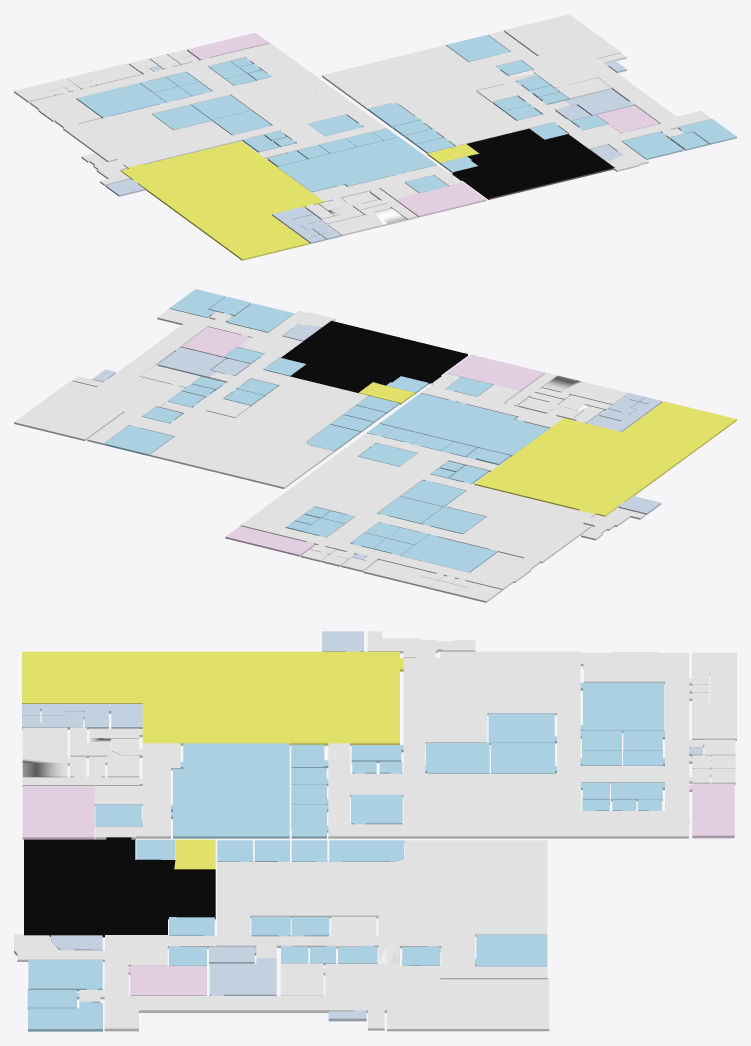
Rendered from Floors-North.fbx.
3 renders of one model, top to bottom at view 1: azimuth 30°, elevation 25°; view 2: azimuth 150°, elevation 25°; view 3: azimuth 270°, elevation 25°, orthographic. The views are drawn at different scales.
Parts seen in each view (by area): view 1: polySurface127, polySurface75, polySurface15, polySurface93, A_C01042, polySurface29, Kitchen, polySurface94, Bathroom_Canteen, polySurface40, PoolRoom, polySurface77 (+20 smaller); view 2: polySurface127, polySurface75, polySurface15, polySurface93, A_C01042, polySurface29, polySurface94, Kitchen, Bathroom_Canteen, polySurface40, PoolRoom, polySurface77 (+17 smaller); view 3: polySurface127, polySurface75, polySurface15, polySurface93, A_C01042, polySurface29, Kitchen, polySurface94, Bathroom_Canteen, polySurface40, PoolRoom, polySurface77 (+43 smaller).
Part boxes in pixels (box(x1,y1,x2,y2)): polySurface127: box(322, 14, 653, 146); polySurface75: box(29, 51, 346, 185); polySurface15: box(121, 141, 323, 232); polySurface93: box(452, 128, 614, 199); A_C01042: box(277, 137, 436, 192); polySurface29: box(238, 43, 386, 158); Kitchen: box(203, 214, 309, 260); polySurface94: box(555, 110, 711, 171); Bathroom_Canteen: box(321, 188, 417, 236); polySurface40: box(76, 83, 165, 118); PoolRoom: box(395, 182, 486, 217); polySurface77: box(348, 165, 462, 199); polySurface127: box(14, 341, 368, 488); polySurface75: box(276, 456, 645, 590); polySurface15: box(474, 418, 694, 516); polySurface93: box(281, 321, 467, 392); A_C01042: box(379, 393, 549, 456); polySurface29: box(240, 433, 498, 534); polySurface94: box(157, 308, 335, 369); Kitchen: box(622, 401, 736, 451); Bathroom_Canteen: box(505, 372, 628, 413); polySurface40: box(400, 534, 497, 572); PoolRoom: box(446, 354, 544, 391); polySurface77: box(421, 373, 528, 417); polySurface127: box(208, 840, 549, 1031); polySurface75: box(367, 631, 689, 824); polySurface15: box(142, 651, 403, 745); polySurface93: box(24, 837, 215, 937); A_C01042: box(171, 743, 289, 838); polySurface29: box(328, 743, 689, 838); Kitchen: box(22, 651, 142, 703); polySurface94: box(14, 934, 215, 1031); Bathroom_Canteen: box(22, 727, 142, 786); polySurface40: box(580, 682, 664, 732); PoolRoom: box(22, 786, 94, 839); polySurface77: box(94, 768, 170, 839).
Bounding box in the file's own units: 7.92 × 0.0238 × 6.09.
